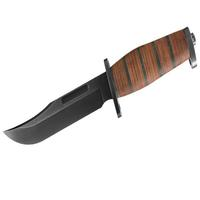knife: (2, 29, 192, 148)
